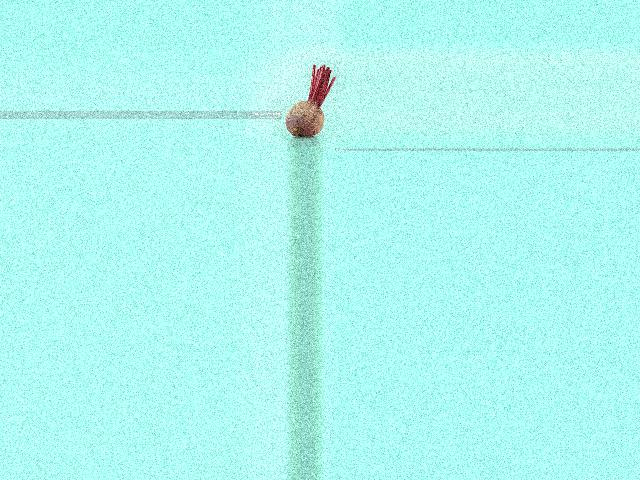beet: (284, 65, 334, 137)
